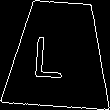L_N: (41, 28, 77, 80)
